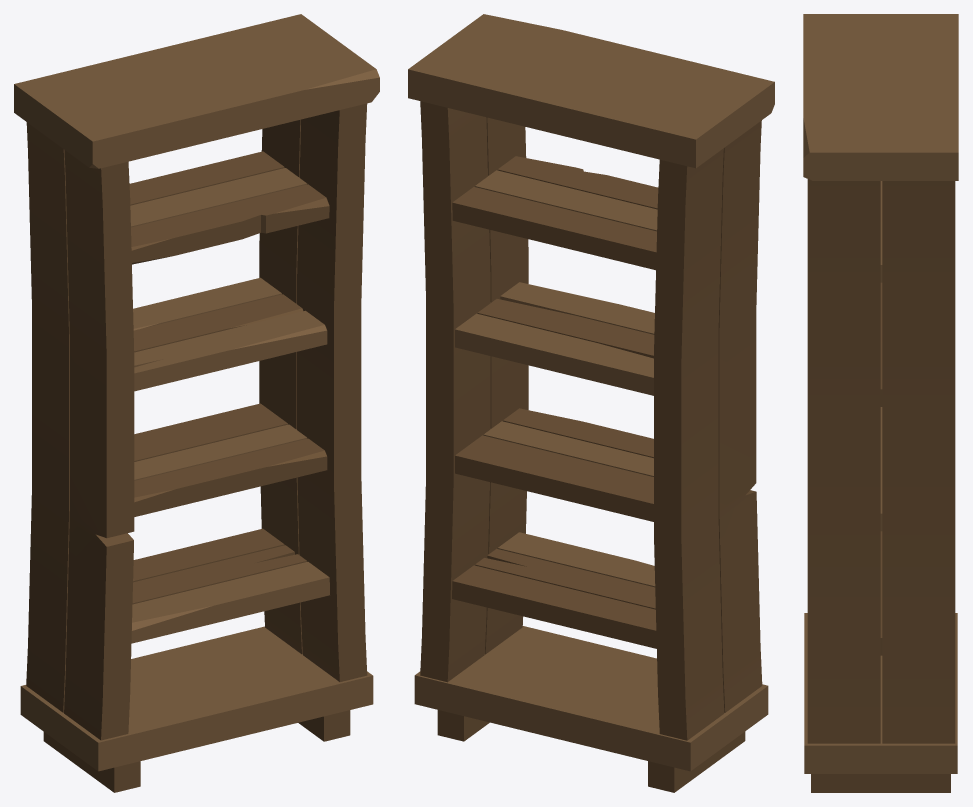
Rendered from Furniture_01.fbx.
The picture shows the model from 3 angles, left to right: view 1: azimuth 30°, elevation 25°; view 2: azimuth 150°, elevation 25°; view 3: azimuth 270°, elevation 25°; orthographic projection.
Visible parts, largest first — view 1: Furniture_01; view 2: Furniture_01; view 3: Furniture_01.
Boxes of the visible parts, x1,y1,x2,y2 form: Furniture_01: (14,14,379,792); Furniture_01: (408,14,774,792); Furniture_01: (803,14,958,792).
Bounding box in the file's own units: 105 × 230 × 49.67.
